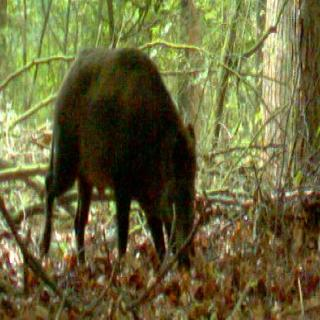Pig: (31, 46, 199, 273)
